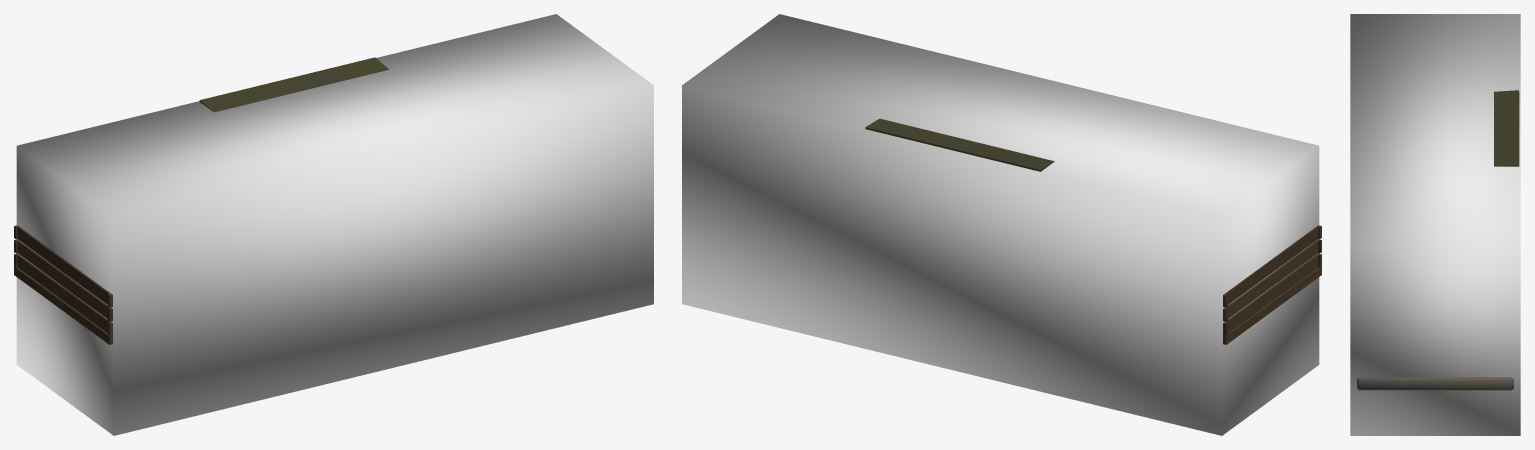
Rendered from camion.glb.
3 renders of one model, left to right at view 1: azimuth 30°, elevation 25°; view 2: azimuth 150°, elevation 25°; view 3: azimuth 270°, elevation 25°, orthographic. The views are drawn at different scales.
Parts seen in each view (by area): view 1: camion-colcaja, camion; view 2: camion-colcaja, camion; view 3: camion-colcaja, camion.
Part boxes in pixels (<box>): camion-colcaja: <box>16,14,653,435</box>; camion: <box>14,57,388,344</box>; camion-colcaja: <box>682,14,1319,435</box>; camion: <box>865,118,1321,344</box>; camion-colcaja: <box>1350,14,1520,435</box>; camion: <box>1357,90,1519,390</box>.
Size of the model in its own units: 8.11 by 3.13 by 2.5.
